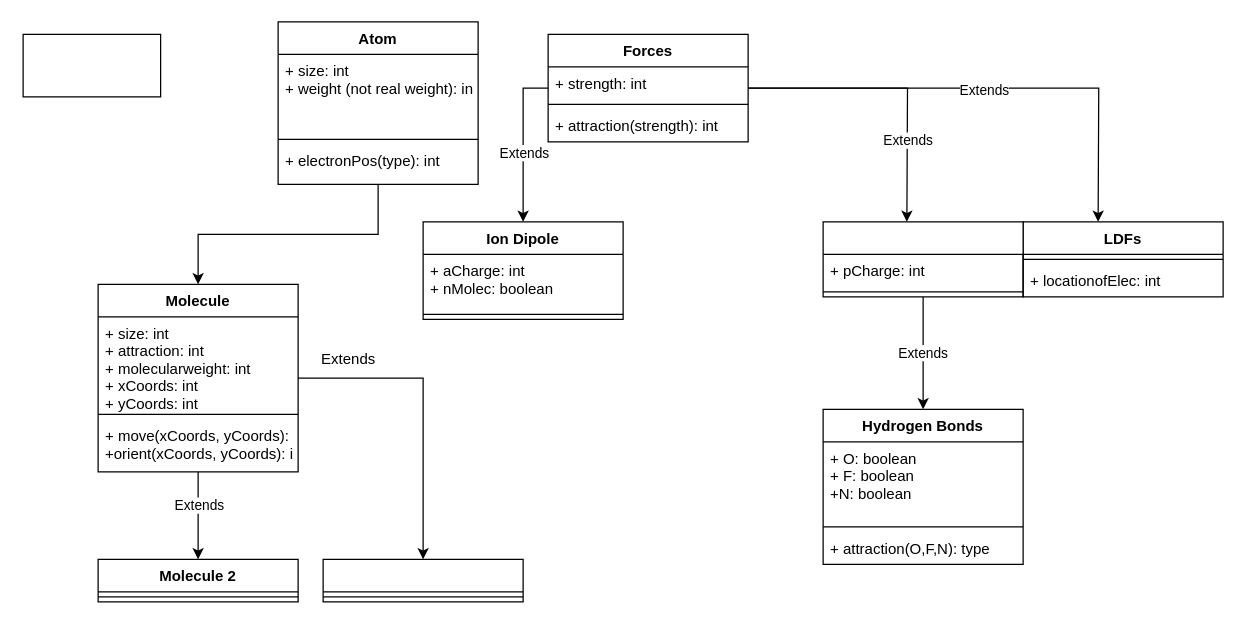
Image size: 1245x624. Some labels were removed from this diagram. The box of each missing label's shape, as (x1, y1, x2, y2) in pixels:
Dipole-Dipole: (822, 221, 1023, 297)
Intermolecular forces: (22, 33, 161, 97)
Molecule 1: (322, 558, 523, 602)
